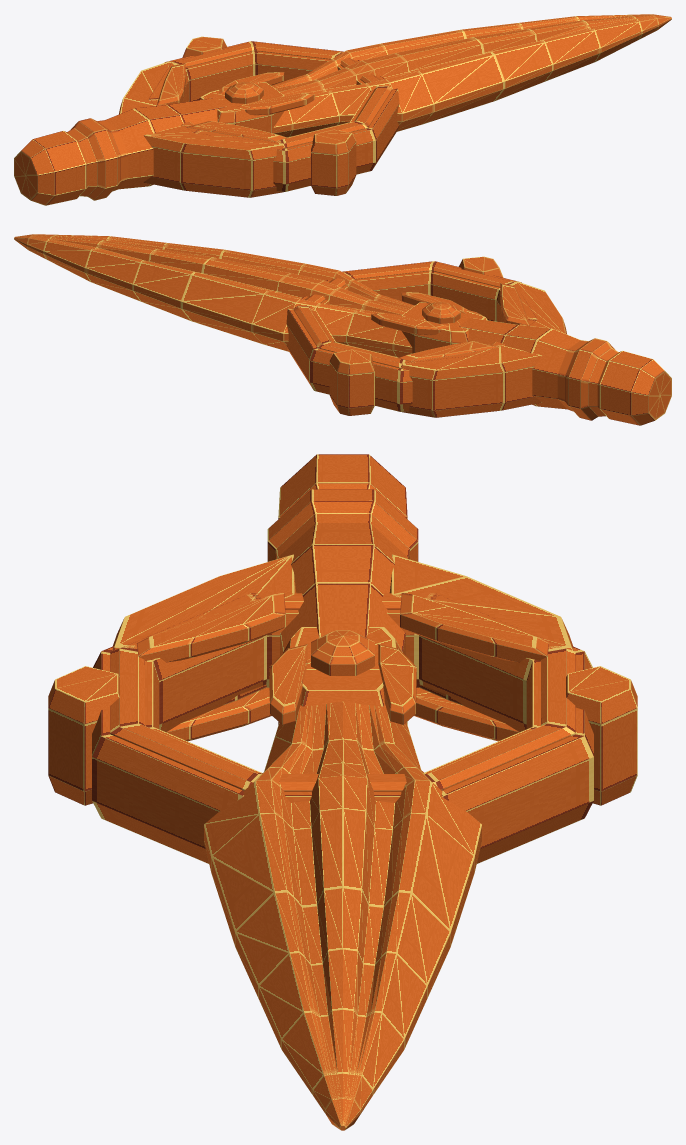
File: bench_jindan_jinwu_spear_1_hot.obj
The picture shows the model from 3 angles, top to bottom: view 1: azimuth 30°, elevation 25°; view 2: azimuth 150°, elevation 25°; view 3: azimuth 270°, elevation 25°; orthographic projection. The views are drawn at different scales.
Parts seen in each view (by area): view 1: geometry; view 2: geometry; view 3: geometry.
Part boxes in pixels (x1,y1,x2,y2): geometry: [14, 14, 671, 205]; geometry: [14, 234, 671, 425]; geometry: [48, 454, 637, 1130].
Bounding box in the file's own units: 0.75 × 0.0846 × 0.2967.
